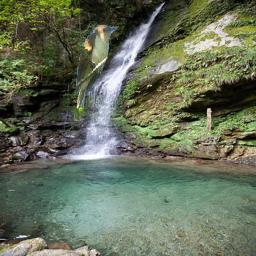Cuckoo: (73, 23, 120, 125)
